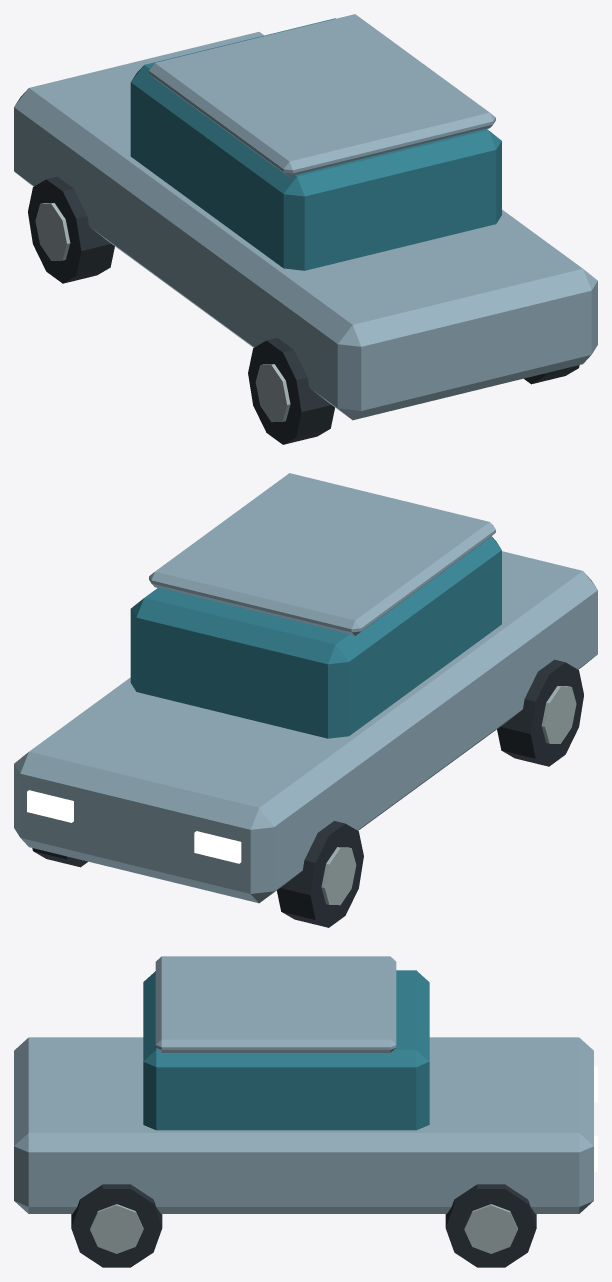
File: car.glb
3 renders of one model, top to bottom at view 1: azimuth 30°, elevation 25°; view 2: azimuth 150°, elevation 25°; view 3: azimuth 270°, elevation 25°, orthographic. The views are drawn at different scales.
Visible parts, largest first — view 1: car; view 2: car; view 3: car.
Boxes of the visible parts, x1,y1,x2,y2 form: car: [14, 14, 597, 444]; car: [14, 473, 597, 927]; car: [14, 956, 597, 1267].
Size of the model in its own units: 1.93 by 1.58 by 3.98.
